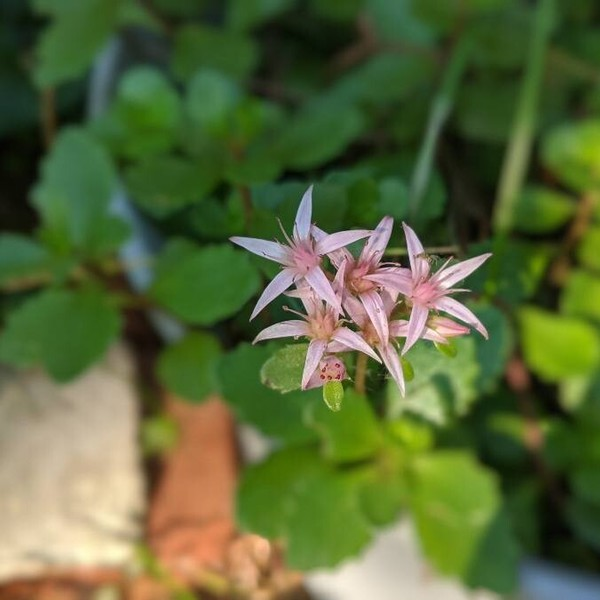obstacle: (196, 192, 508, 425), (279, 379, 504, 566), (39, 166, 237, 368)
